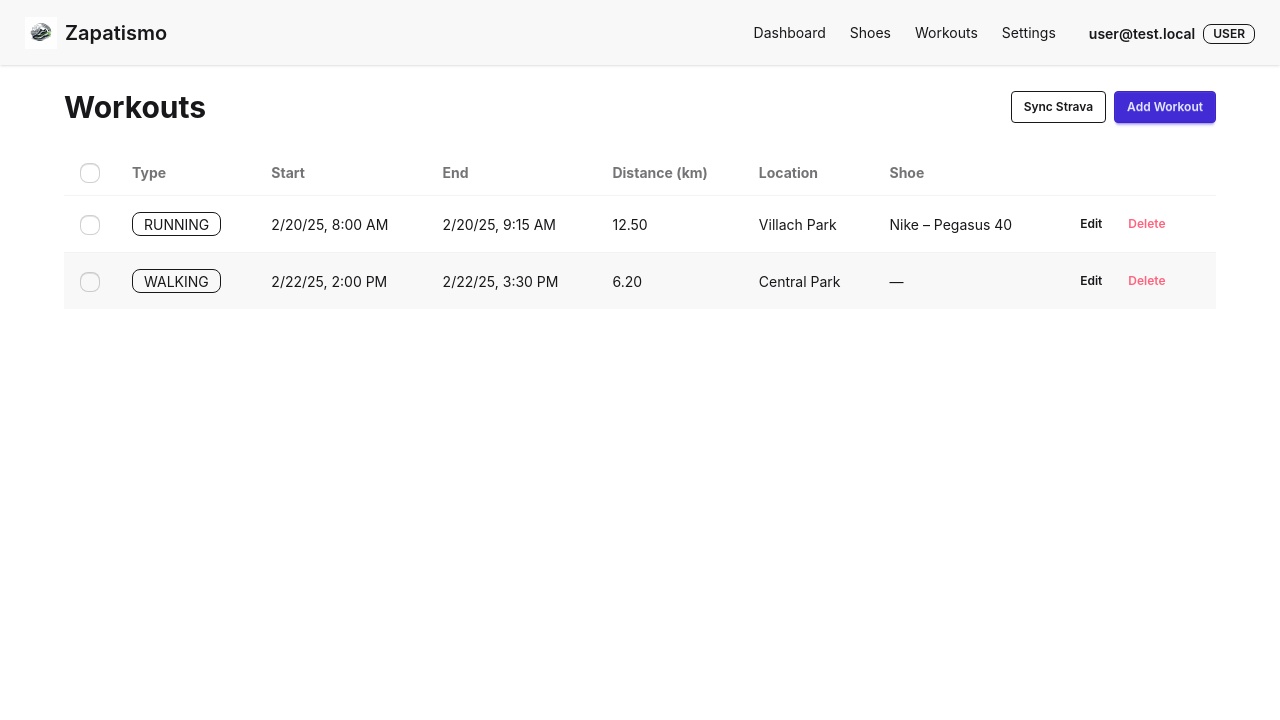
Test: Workouts › e2e › fixtures › sync modal shows no warning when user has default running and walking shoe
Click the button with test id "sync-strava": [1059, 107] box [1011,91,1107,123]
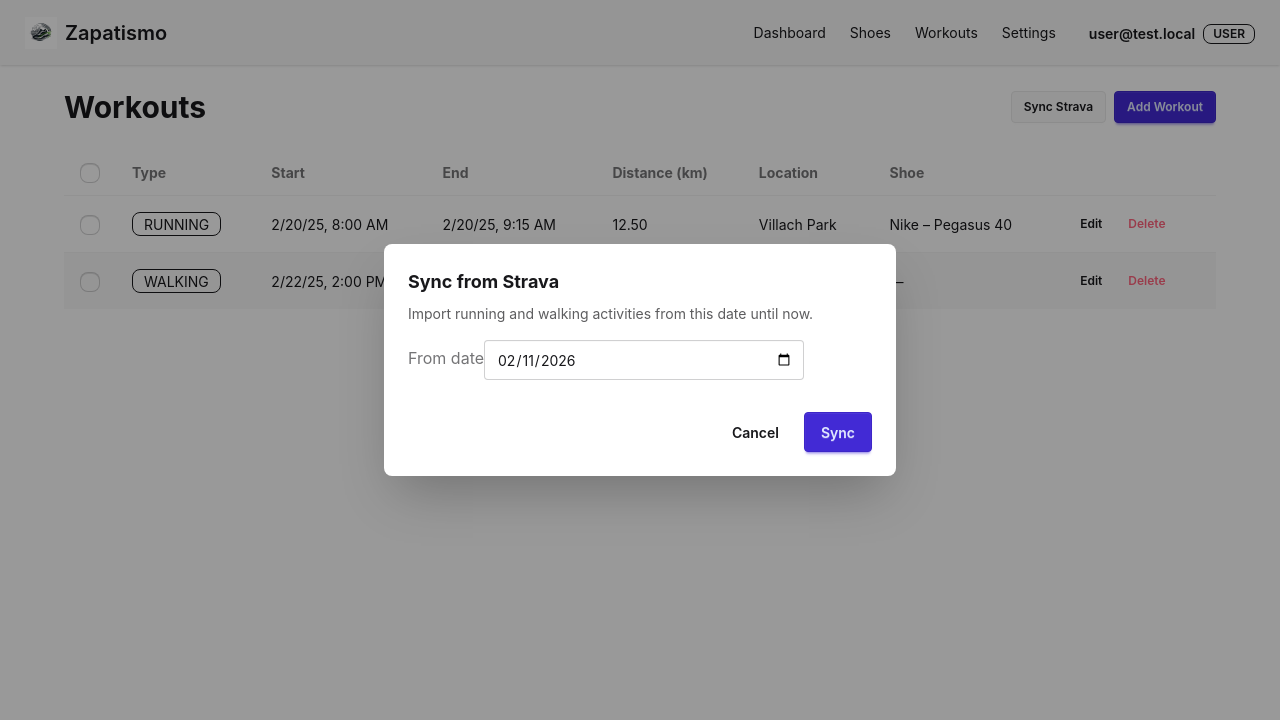
Result: the dialog with test id "sync-strava-modal" is shown
